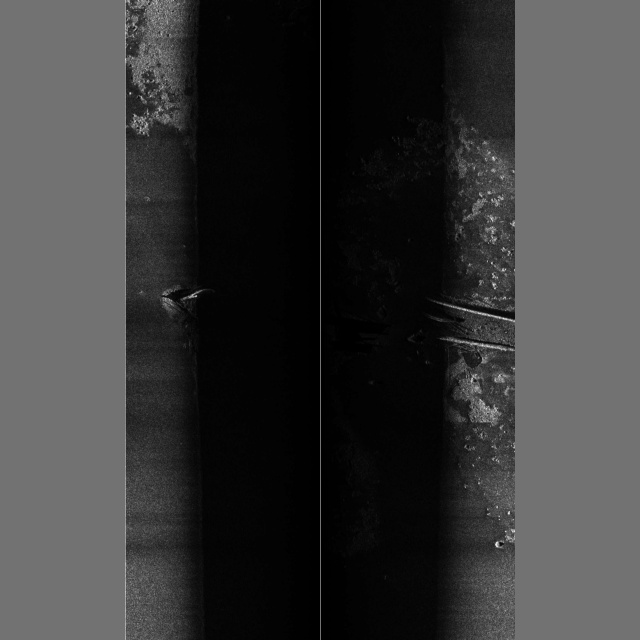Shipwreck: (164, 286, 515, 389)
